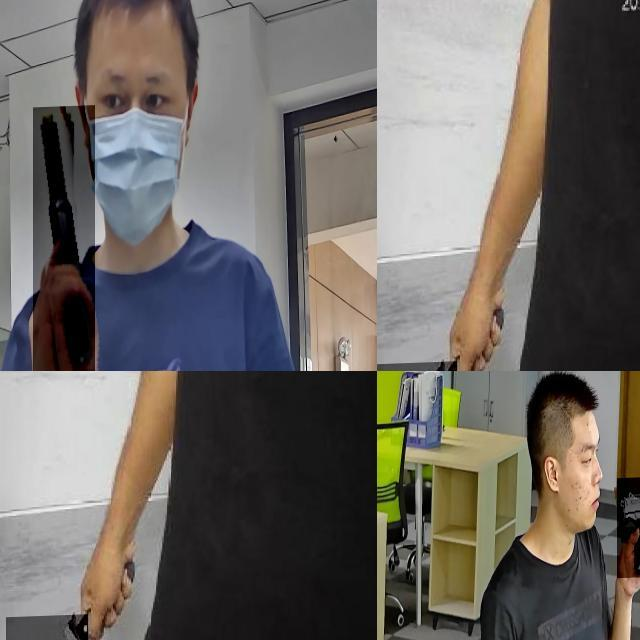gun-knife-thesis - v11 Yolov5 augmented: (32, 107, 95, 371), (617, 478, 640, 581)
